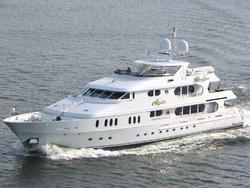yacht: (1, 26, 240, 155)
